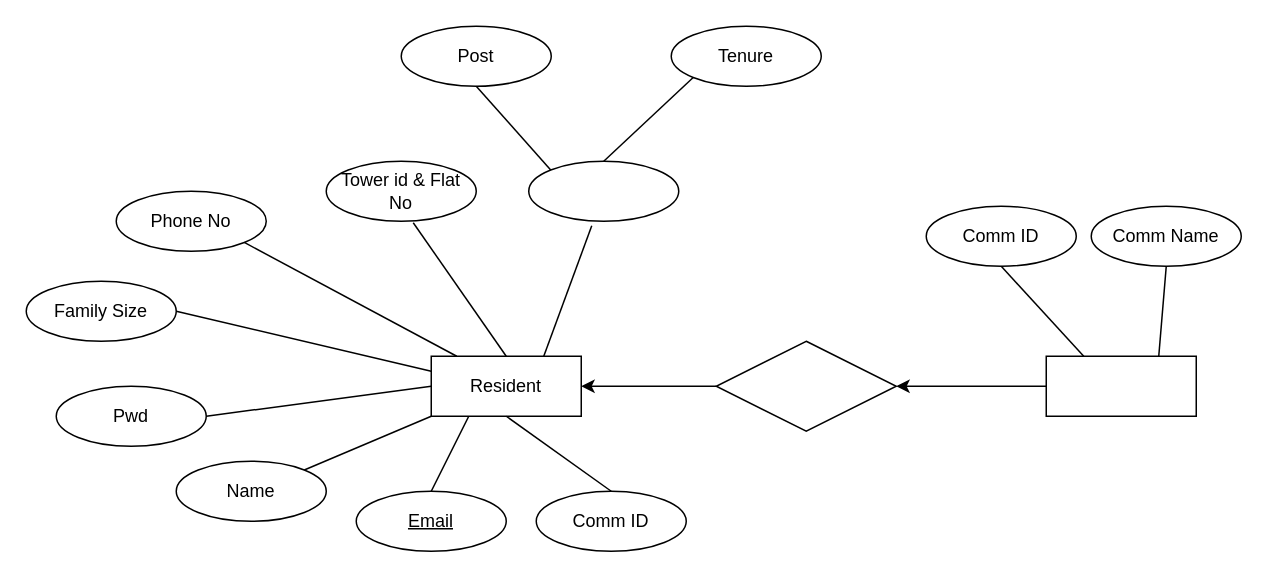
The diagram is 1268 pixels wide and 578 high, and some of its shapes have lost their labels. Each missing label, with the box of its shape:
Committee: (1045, 355, 1196, 416)
Formed By: (715, 340, 896, 431)
Portfolio: (527, 160, 679, 221)
